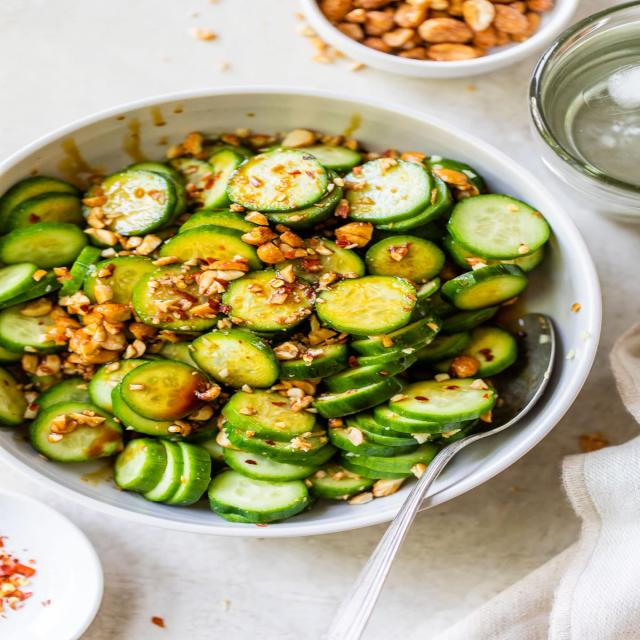Pickle: (448, 194, 549, 260), (227, 149, 330, 213), (375, 378, 497, 432), (315, 275, 418, 336), (120, 360, 219, 421), (345, 158, 433, 225), (28, 401, 124, 462), (88, 170, 176, 236), (133, 264, 219, 331), (223, 270, 315, 332), (208, 470, 313, 522), (188, 329, 279, 389), (351, 312, 442, 365), (221, 390, 315, 441), (159, 225, 262, 270), (0, 299, 81, 354), (0, 222, 88, 270), (441, 264, 529, 310), (82, 255, 158, 305), (313, 378, 405, 418), (366, 235, 444, 281), (223, 448, 319, 482), (163, 441, 212, 506), (6, 192, 84, 232), (343, 442, 439, 472), (114, 439, 167, 492), (201, 150, 244, 210), (279, 344, 349, 380), (0, 271, 62, 308), (338, 456, 412, 480), (298, 145, 362, 172), (362, 430, 417, 446)
